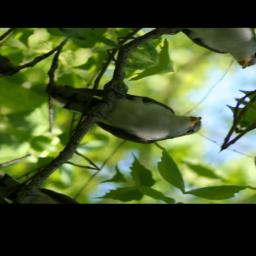Cuckoo: (34, 59, 208, 162)
